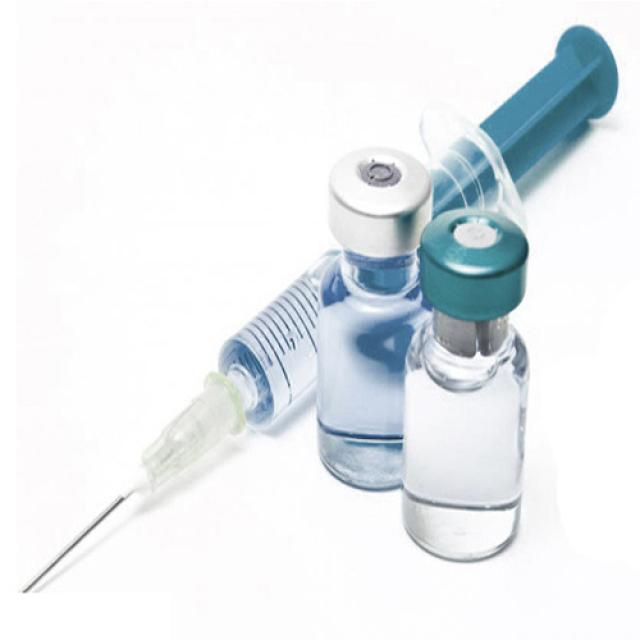B3: (400, 202, 538, 571), (308, 141, 443, 495)
